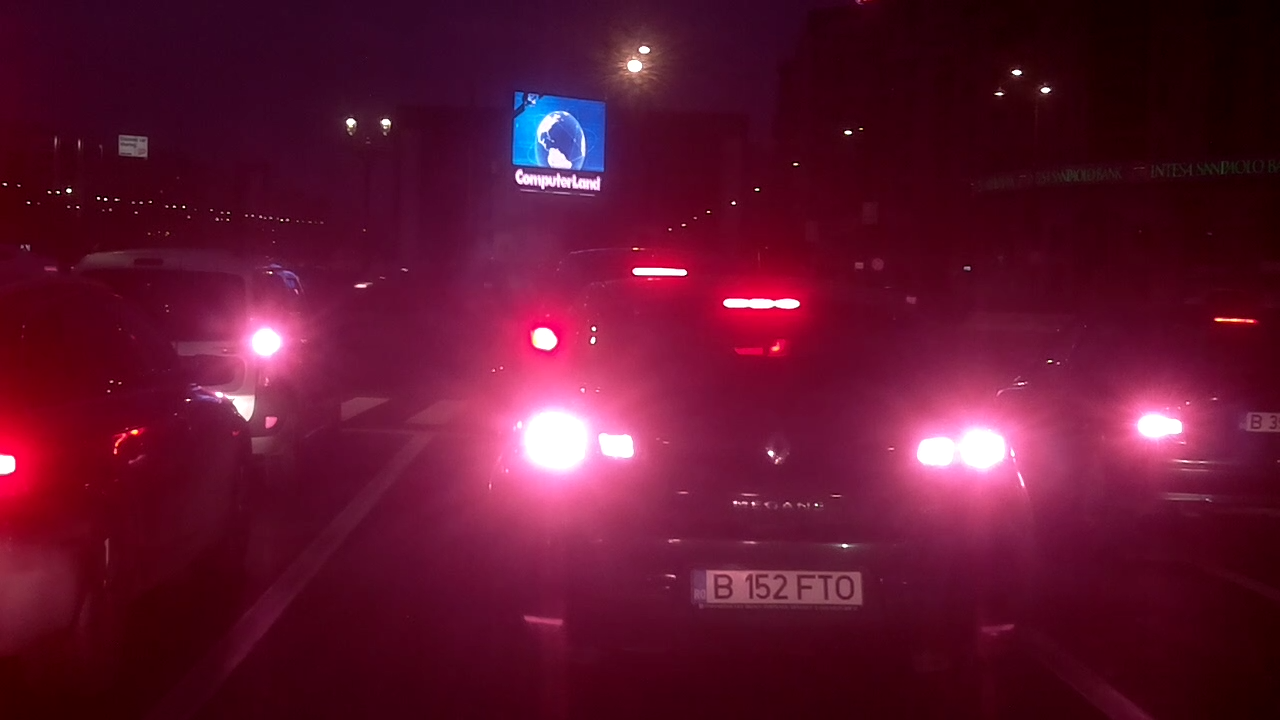license-plate: (684, 564, 868, 610)
